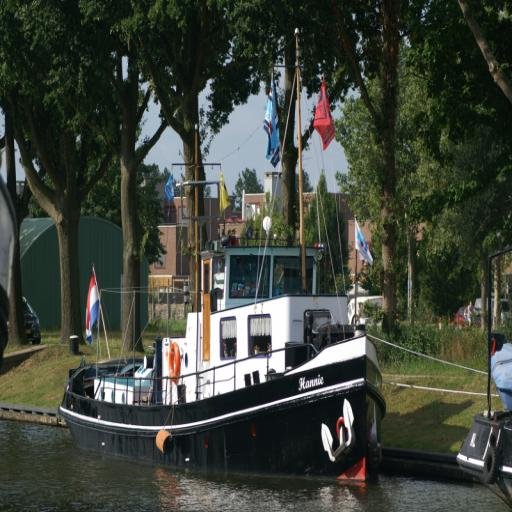tugboat: (55, 120, 391, 491)
